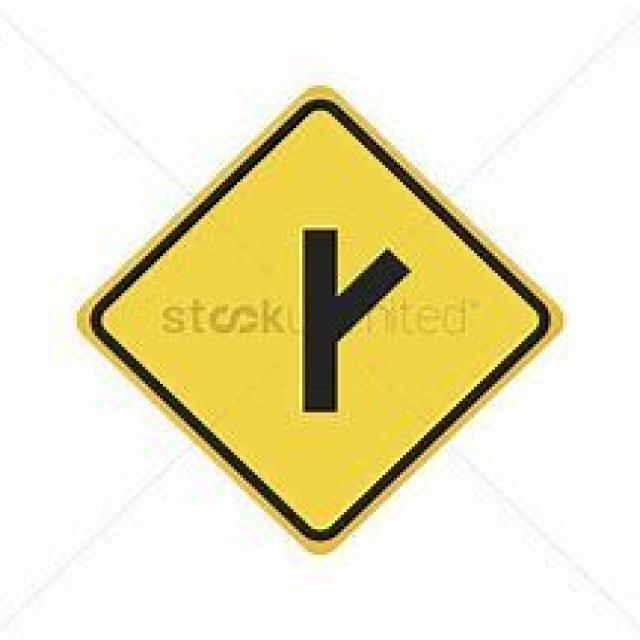y intersection: (77, 80, 569, 551)
